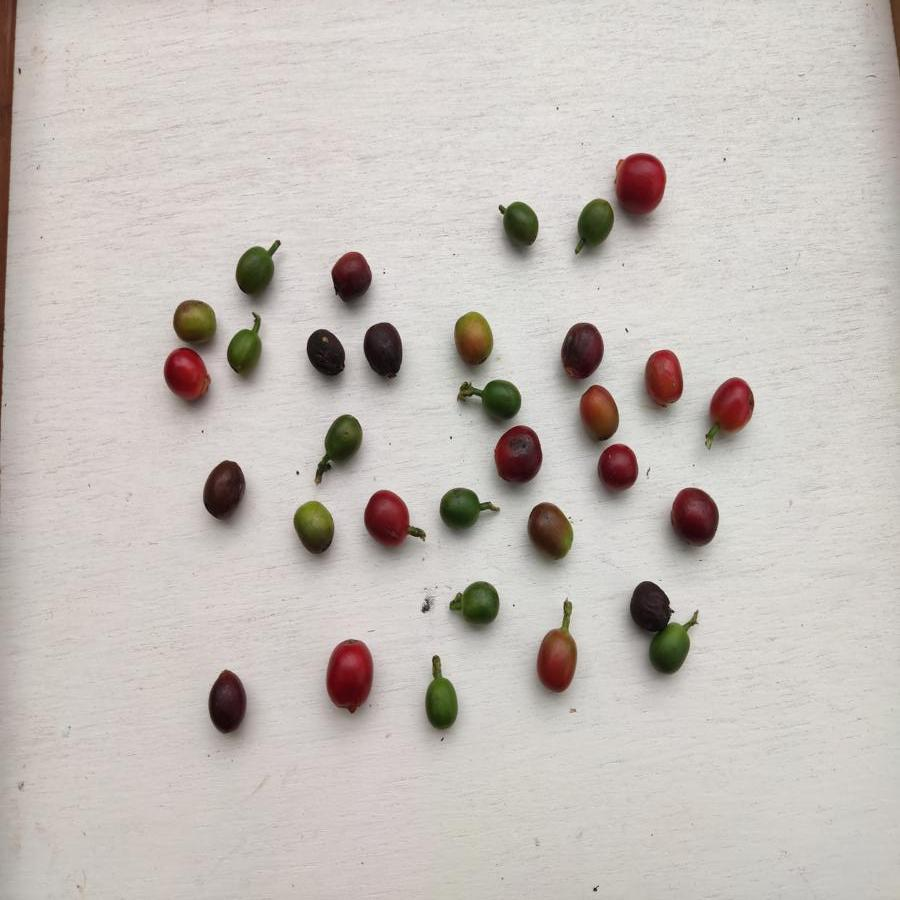Inmaduro: (420, 673, 460, 729), (651, 624, 691, 676), (454, 579, 500, 624), (234, 246, 276, 294), (438, 488, 484, 531), (501, 200, 541, 248), (322, 414, 362, 462), (576, 197, 614, 246), (223, 330, 262, 376), (478, 380, 523, 417)
Maduro: (325, 636, 373, 713), (613, 154, 667, 215), (534, 627, 578, 694), (162, 346, 212, 402), (363, 487, 410, 545), (708, 376, 755, 432), (643, 348, 685, 406), (596, 443, 641, 490)
Pinton: (528, 500, 572, 561), (292, 498, 338, 555), (451, 311, 493, 366), (578, 384, 619, 438), (173, 298, 218, 343)
Sobremaduro: (669, 486, 720, 548), (493, 425, 546, 483), (207, 669, 247, 734), (203, 460, 245, 519), (561, 321, 603, 379), (363, 321, 402, 380), (629, 579, 673, 630), (328, 251, 372, 301), (303, 328, 347, 377)
